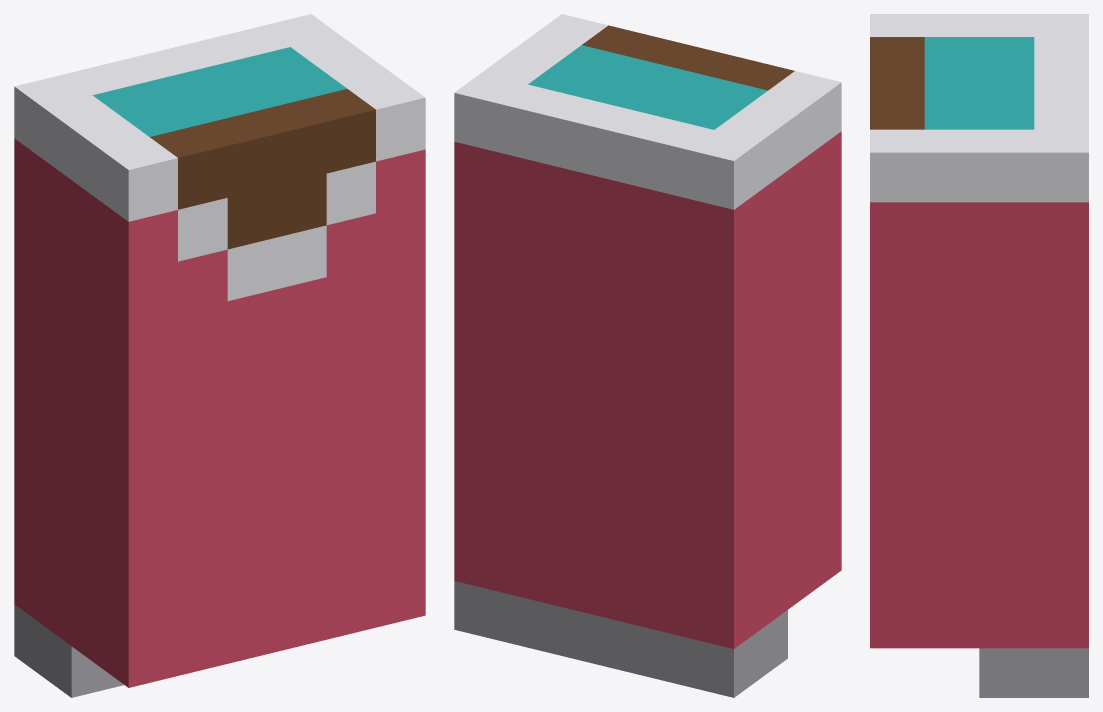
Rendered from torso.obj.
The picture shows the model from 3 angles, left to right: view 1: azimuth 30°, elevation 25°; view 2: azimuth 150°, elevation 25°; view 3: azimuth 270°, elevation 25°; orthographic projection. The views are drawn at different scales.
Bounding box in the file's own units: 0.6 × 1.1 × 0.4.
Materials: 1 (1 with a texture image).
